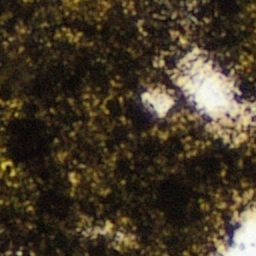cement_matrix: (0, 0, 255, 255), (142, 87, 174, 116), (103, 226, 108, 230), (122, 237, 125, 240)
cracks: (104, 227, 107, 229), (123, 238, 124, 239)
gravel_crushed_stones: (174, 49, 255, 141), (214, 206, 255, 255), (143, 88, 173, 115), (227, 131, 229, 133)
